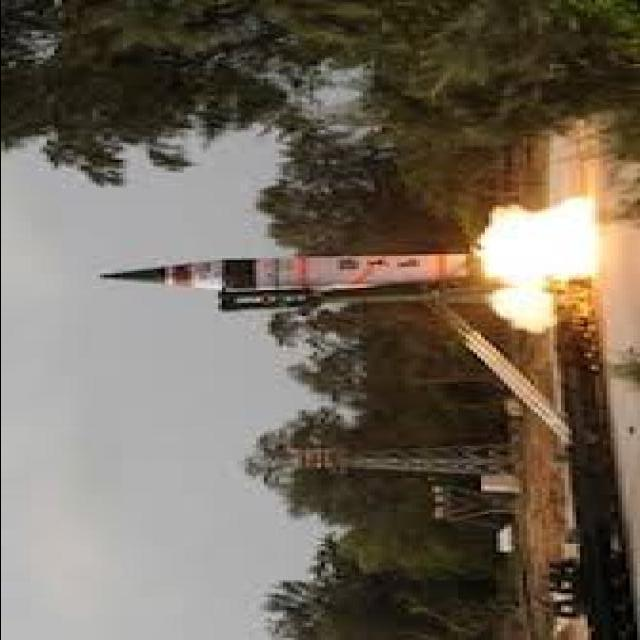missile: (100, 253, 488, 291)
